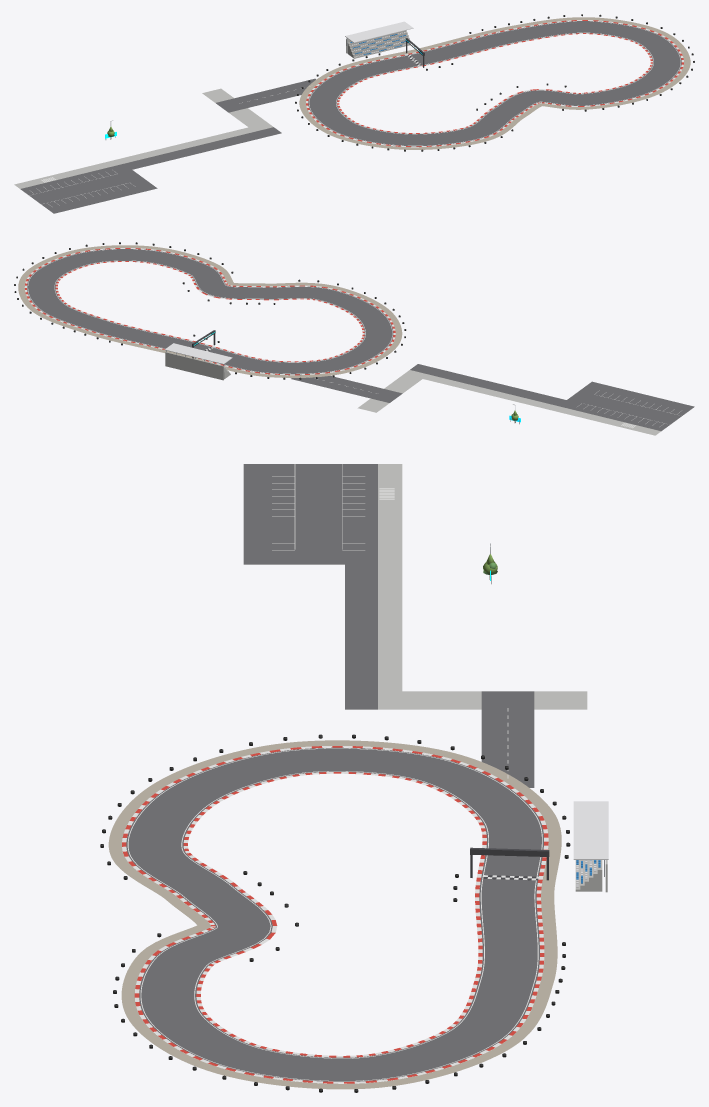
The model's file is outdoor.glb.
The picture shows the model from 3 angles, top to bottom: view 1: azimuth 30°, elevation 25°; view 2: azimuth 150°, elevation 25°; view 3: azimuth 270°, elevation 25°; orthographic projection. The views are drawn at different scales.
Visible parts, largest first — view 1: track, runoff_L, parking, apron, grandstand, curb_L, access_road, curb_R, door_road, east_apron, edge_line_L, edge_line_R (+1 smaller); view 2: track, parking, runoff_L, apron, grandstand, curb_L, access_road, curb_R, door_road, east_apron, edge_line_L, edge_line_R (+1 smaller); view 3: track, parking, runoff_L, apron, access_road, curb_L, door_road, curb_R, grandstand, east_apron, edge_line_L, edge_line_R (+2 smaller).
Boxes of the visible parts, <box> form: track: <box>308,21,681,146</box>; runoff_L: <box>299,17,690,149</box>; parking: <box>20,163,157,213</box>; apron: <box>14,126,257,188</box>; grandstand: <box>345,21,413,58</box>; curb_L: <box>306,20,683,146</box>; access_road: <box>124,127,281,169</box>; curb_R: <box>337,33,652,133</box>; door_road: <box>216,78,315,112</box>; east_apron: <box>202,88,273,130</box>; edge_line_L: <box>309,21,680,145</box>; edge_line_R: <box>336,32,653,134</box>; track: <box>27,249,393,374</box>; parking: <box>559,381,694,431</box>; runoff_L: <box>18,245,402,377</box>; apron: <box>422,373,660,435</box>; grandstand: <box>164,343,232,380</box>; curb_L: <box>24,248,395,375</box>; access_road: <box>410,364,566,405</box>; curb_R: <box>55,261,364,362</box>; door_road: <box>291,374,402,402</box>; east_apron: <box>357,370,426,412</box>; edge_line_L: <box>27,249,392,373</box>; edge_line_R: <box>54,260,365,362</box>; track: <box>126,747,543,1081</box>; parking: <box>243,464,377,564</box>; runoff_L: <box>108,740,561,1089</box>; apron: <box>378,464,402,694</box>; access_road: <box>345,564,377,709</box>; curb_L: <box>122,746,548,1083</box>; door_road: <box>481,691,534,787</box>; curb_R: <box>183,772,486,1057</box>; grandstand: <box>573,801,608,892</box>; east_apron: <box>378,691,587,709</box>; edge_line_L: <box>127,748,542,1081</box>; edge_line_R: <box>181,771,488,1058</box>.
Size of what is drawn, in the model's own units: 338 by 9.06 by 116.
